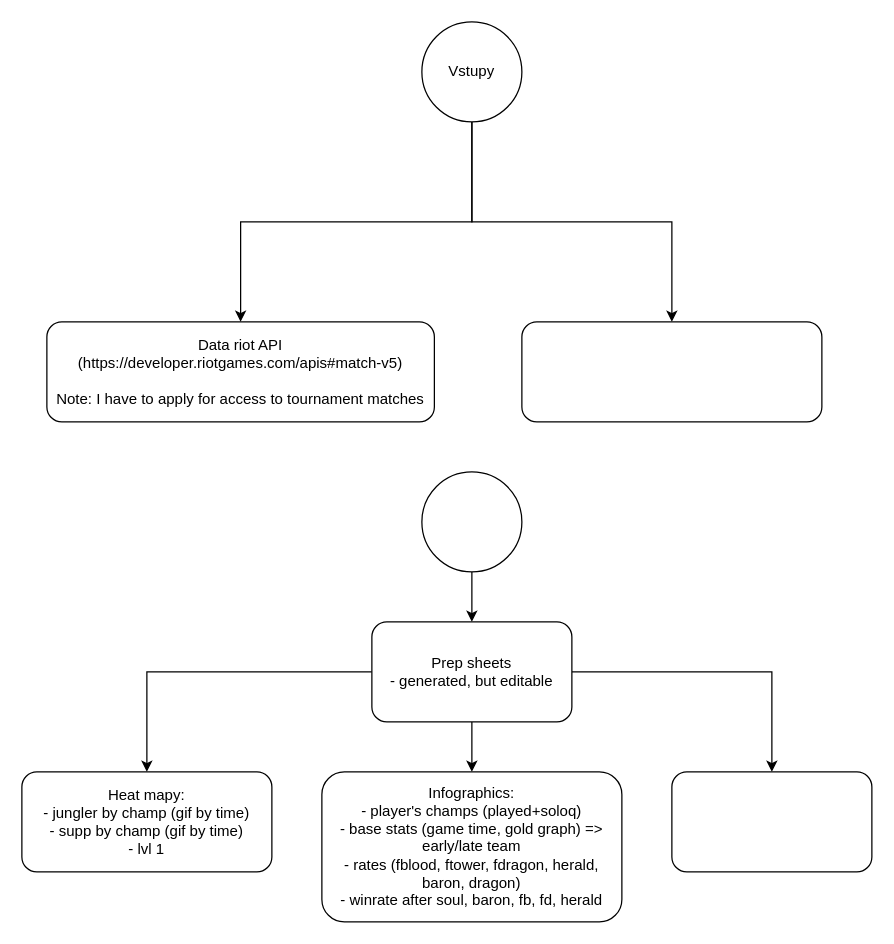
Some shapes in this 894 by 944 pixel diagram are drawn without their labels. The shapes that lost their labels are listed below. From the top down, each one's centre as x and y in pixels, then its label:
At point 671,371: "Data lol.fandom API (https://lol.fandom.com/wiki/V5) Note: slow and for free".
At point 471,521: "Výstupy".
At point 771,821: "Pick preview: - meta picks (+buff,nerfs) - counterpicks - champ pools".
